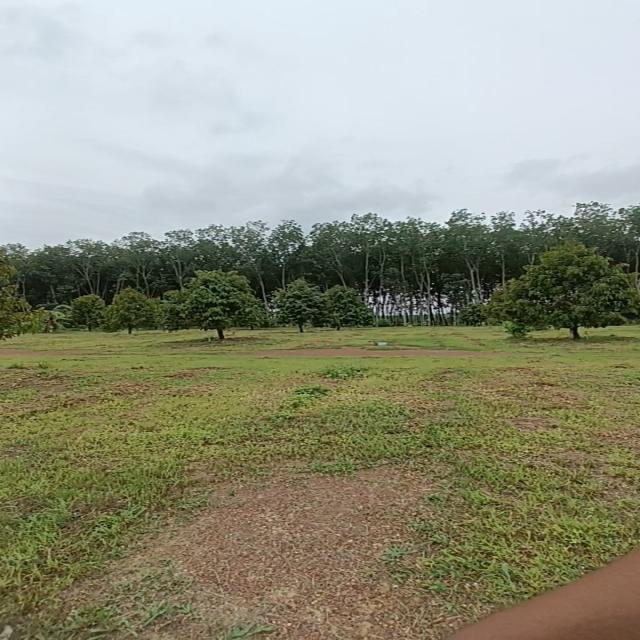Tree: (492, 238, 638, 344), (154, 273, 255, 343)
